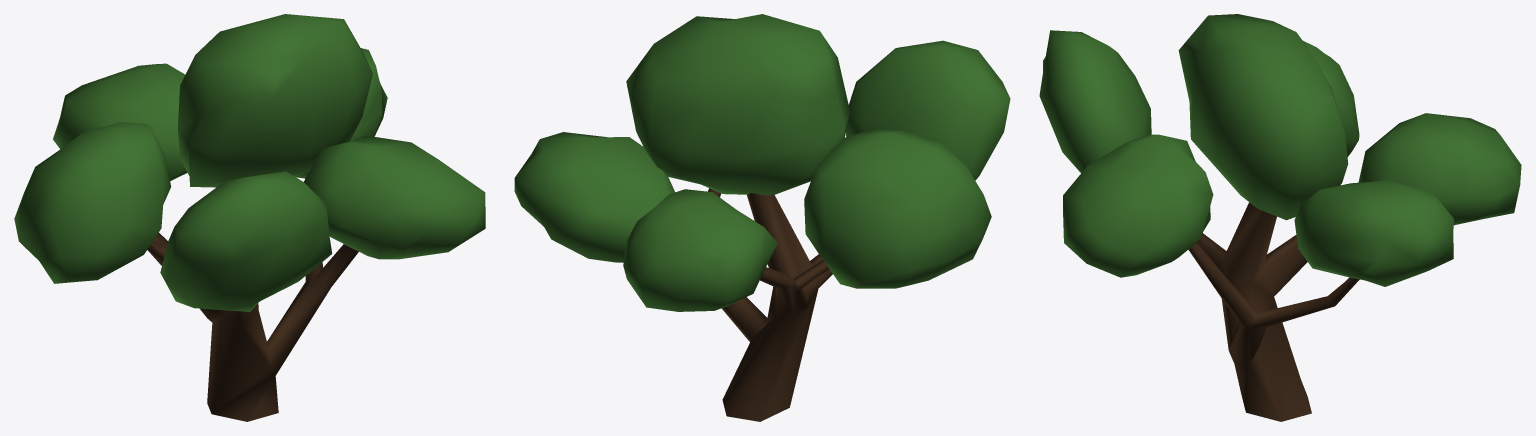
Rendered from Tree010.fbx.
3 renders of one model, left to right at view 1: azimuth 30°, elevation 25°; view 2: azimuth 150°, elevation 25°; view 3: azimuth 270°, elevation 25°, orthographic. The views are drawn at different scales.
Visible parts, largest first — view 1: Tree010; view 2: Tree010; view 3: Tree010.
Boxes of the visible parts, <box> form: Tree010: <box>14,14,485,421</box>; Tree010: <box>514,14,1010,421</box>; Tree010: <box>1039,14,1521,421</box>.
Bounding box in the file's own units: 473 × 429 × 487.
